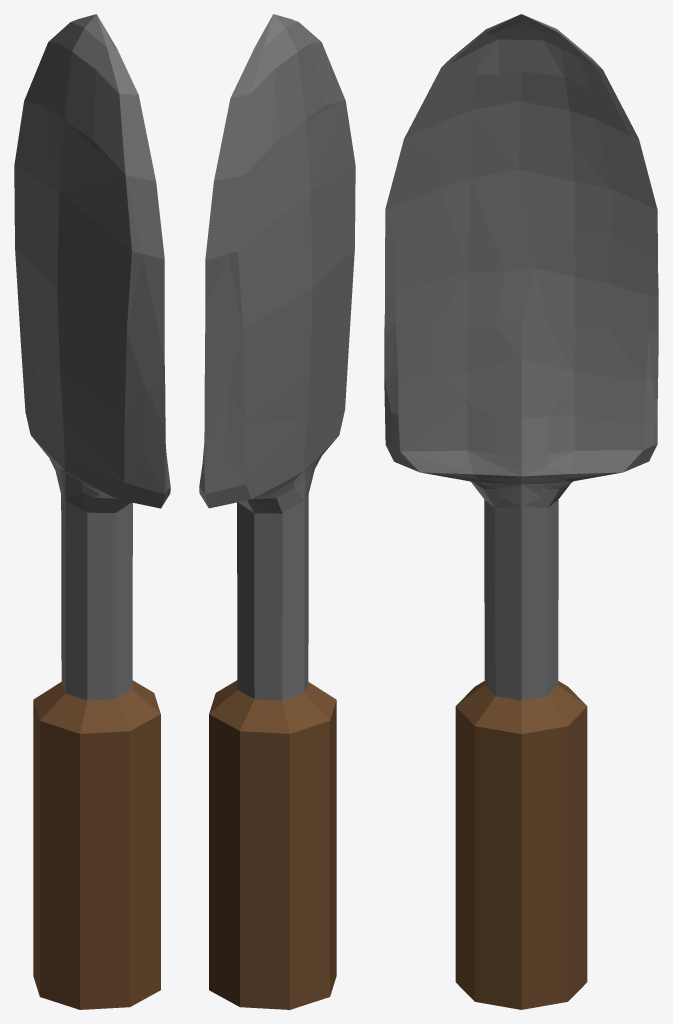
Rendered from trowel.glb.
The picture shows the model from 3 angles, left to right: view 1: azimuth 30°, elevation 25°; view 2: azimuth 150°, elevation 25°; view 3: azimuth 270°, elevation 25°; orthographic projection.
Visible parts, largest first — view 1: Trowel; view 2: Trowel; view 3: Trowel.
Boxes of the visible parts, x1,y1,x2,y2 form: Trowel: [14, 14, 170, 1009]; Trowel: [199, 14, 355, 1009]; Trowel: [384, 14, 658, 1009].
Size of the model in its own units: 0.0836 by 0.6764 by 0.1739.
